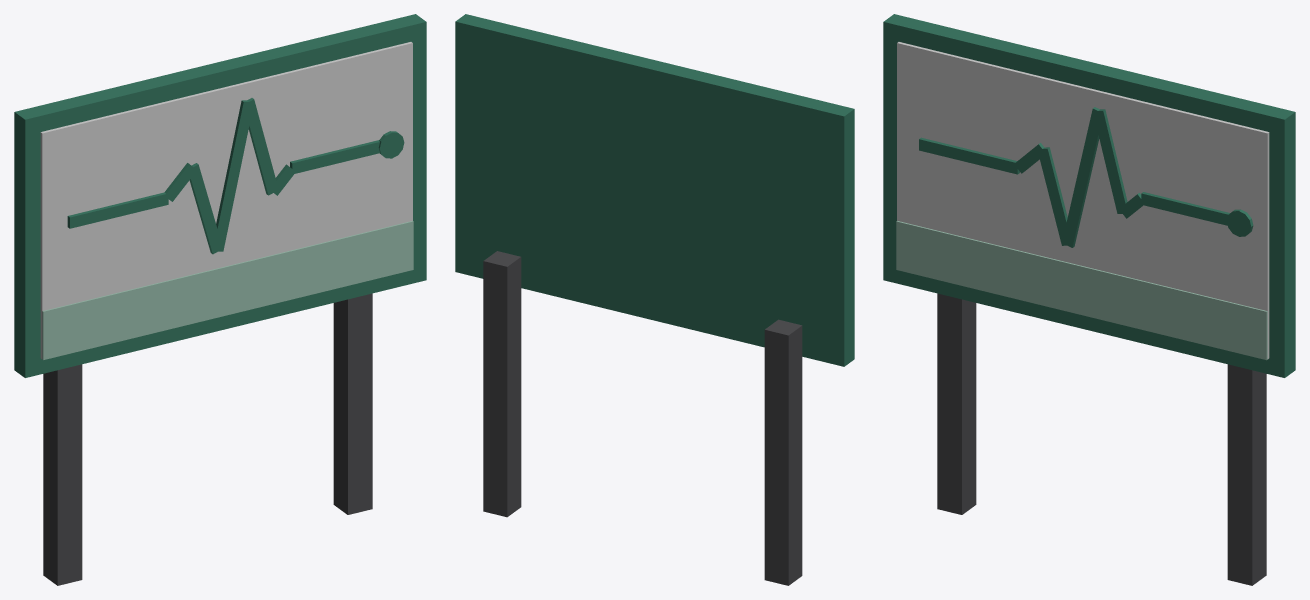
Rendered from w-billboard-teryaq.glb.
3 views of the same model, side by side, from view 1: azimuth 30°, elevation 25°; view 2: azimuth 150°, elevation 25°; view 3: azimuth 330°, elevation 25° (orthographic). The views are drawn at different scales.
Visible parts, largest first — view 1: w-billboard-teryaq; view 2: w-billboard-teryaq; view 3: w-billboard-teryaq.
Boxes of the visible parts, bbox=[...] form: w-billboard-teryaq: bbox=[14, 14, 426, 585]; w-billboard-teryaq: bbox=[455, 14, 854, 585]; w-billboard-teryaq: bbox=[883, 14, 1295, 585].
Bounding box in the file's own units: 1.3 × 1.5 × 0.1719.
